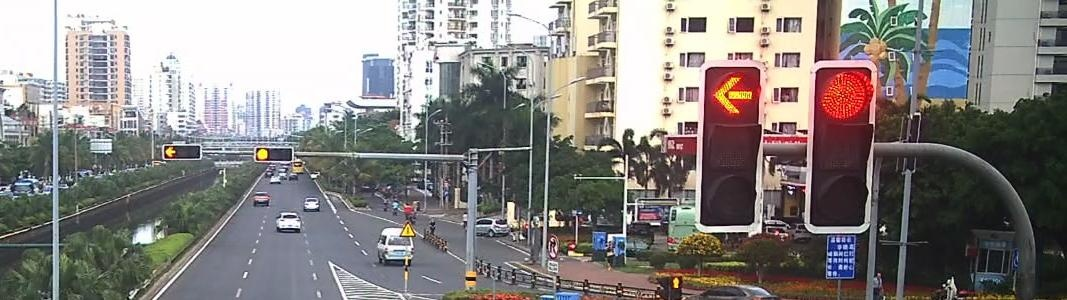red: (815, 68, 872, 120), (256, 147, 268, 160)
redleft: (714, 73, 757, 118), (163, 144, 176, 159)
redpeople: (671, 276, 685, 288)
